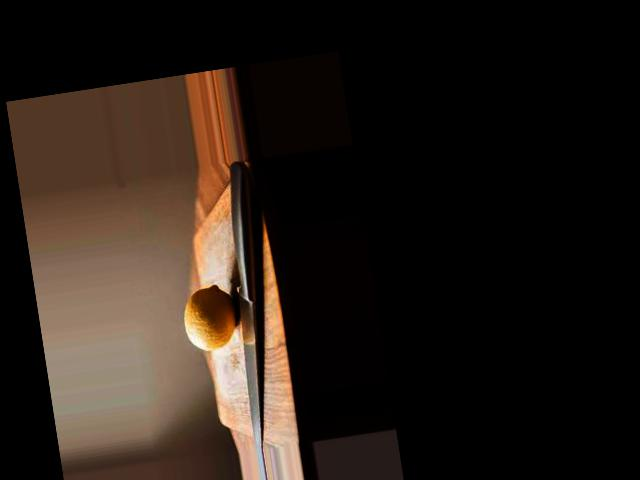lemon: (175, 278, 242, 362)
